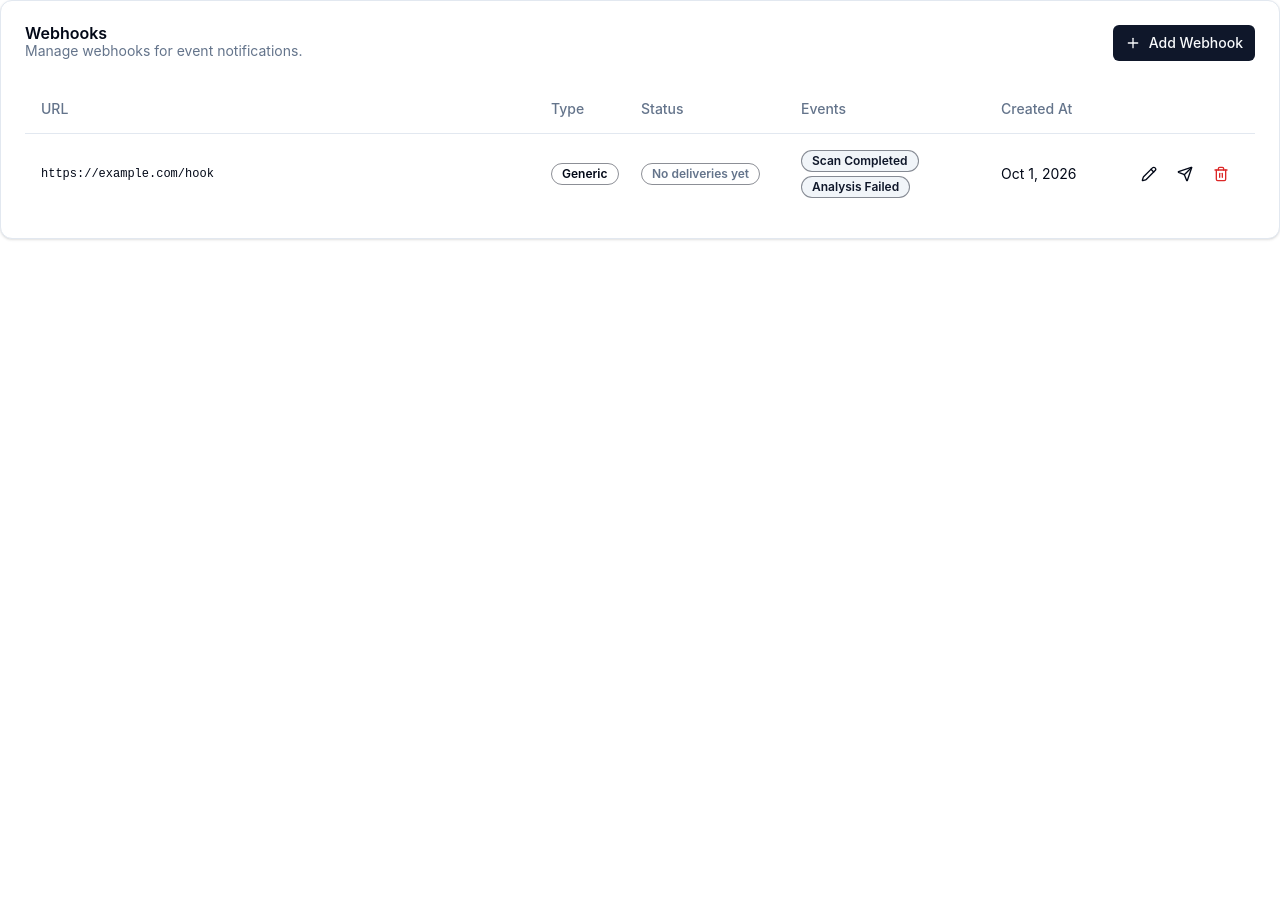
it: WebhookManager › editing a webhook › treats an event unticked and ticked again as unchanged
The image size is (1280, 900).
Click the button named "Edit webhook". click: (1149, 174)
box: left=1131, top=154, right=1167, bottom=194
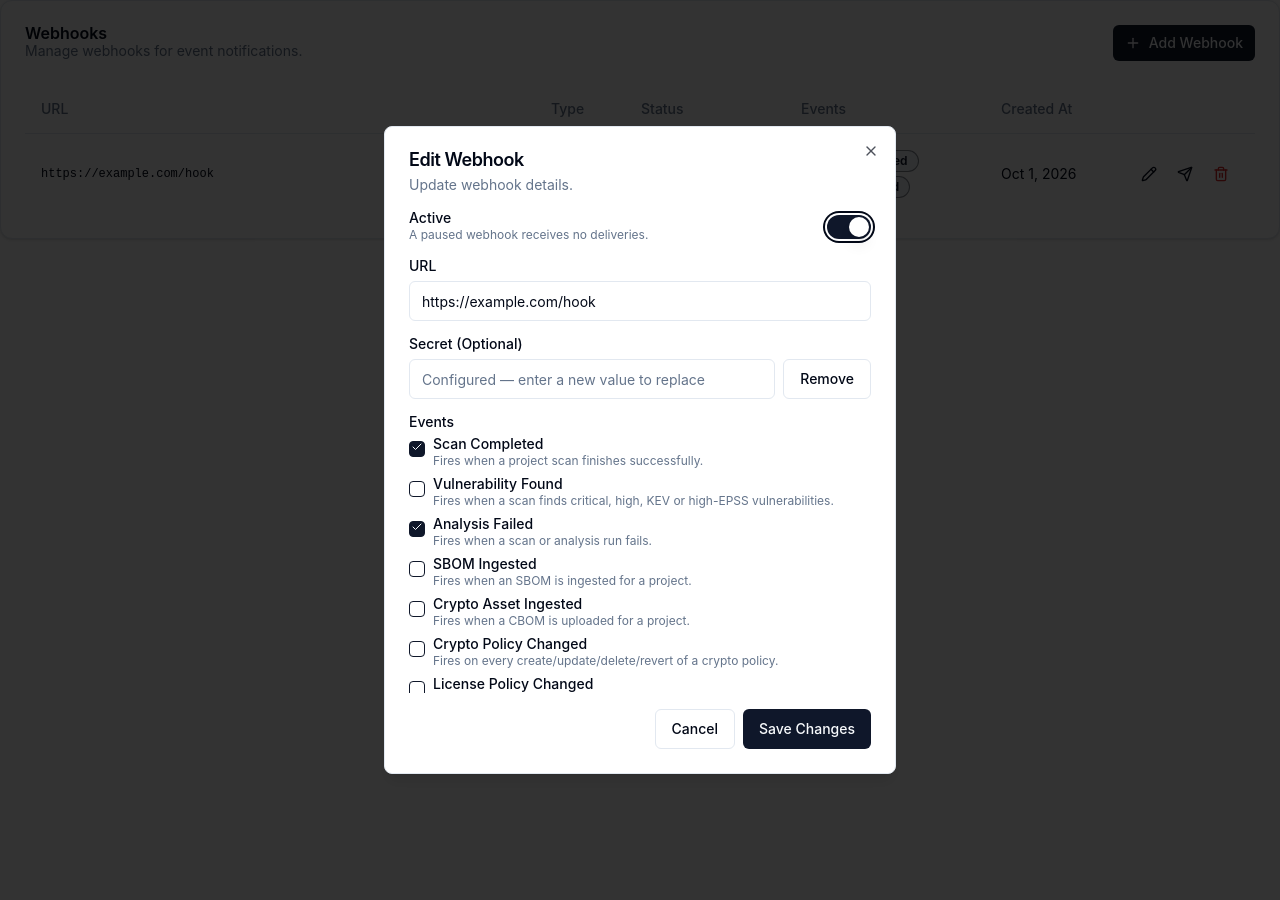
Click the checkbox labelled "Scan Completed". click: (417, 449)
box: left=409, top=441, right=425, bottom=457
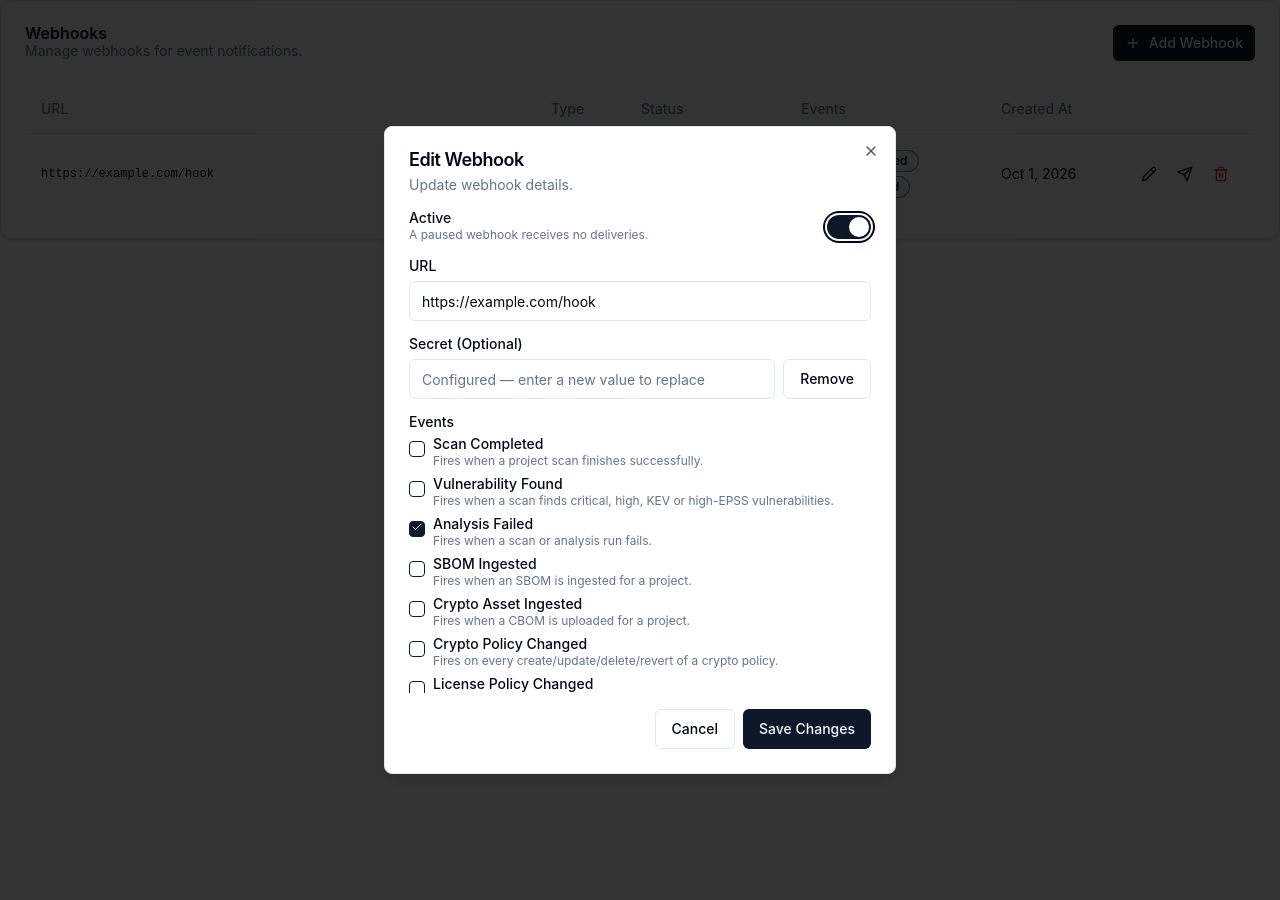
Click the checkbox labelled "Scan Completed". click: (417, 449)
box: left=409, top=441, right=425, bottom=457
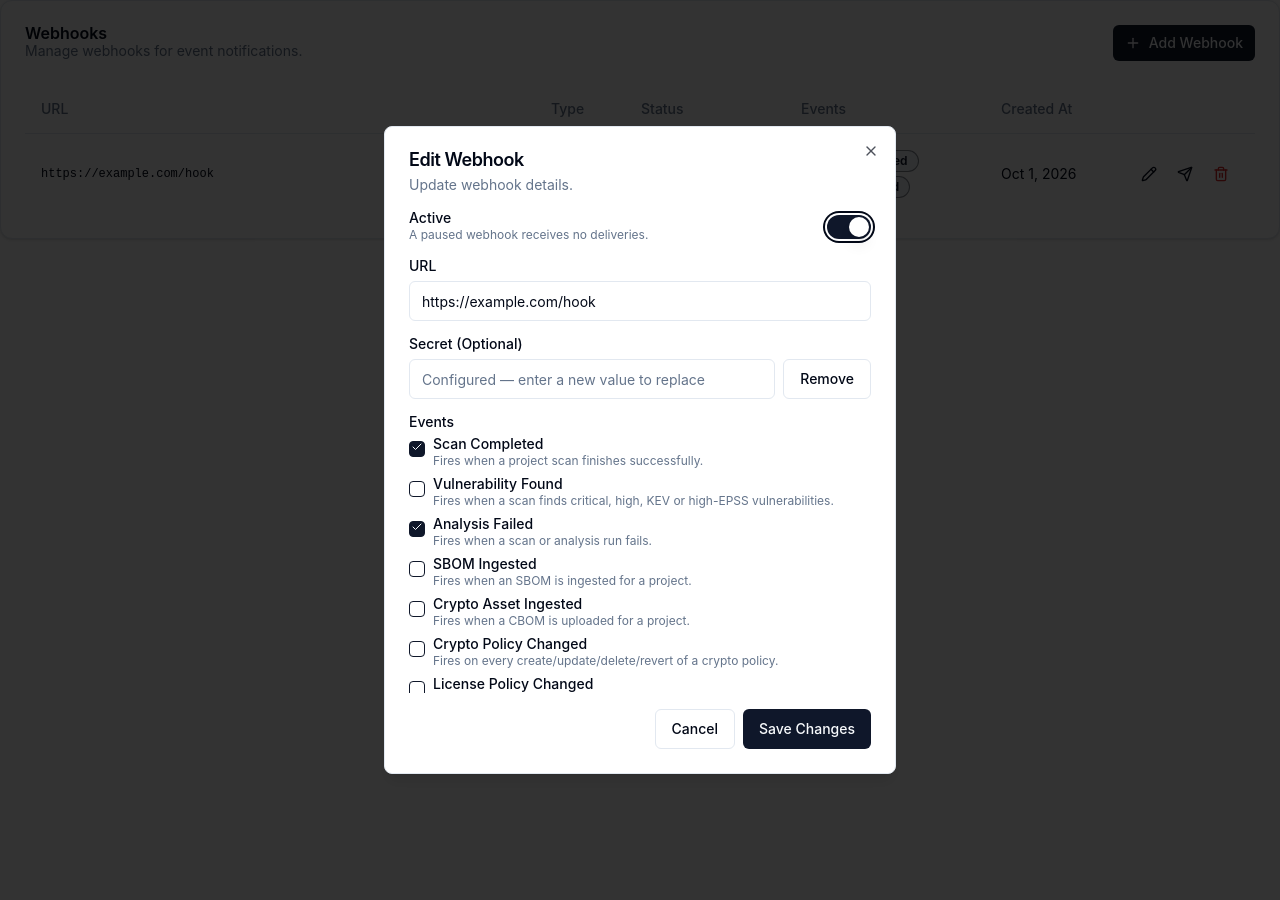
Click the button "Save Changes". click: (807, 729)
box: left=743, top=709, right=871, bottom=749
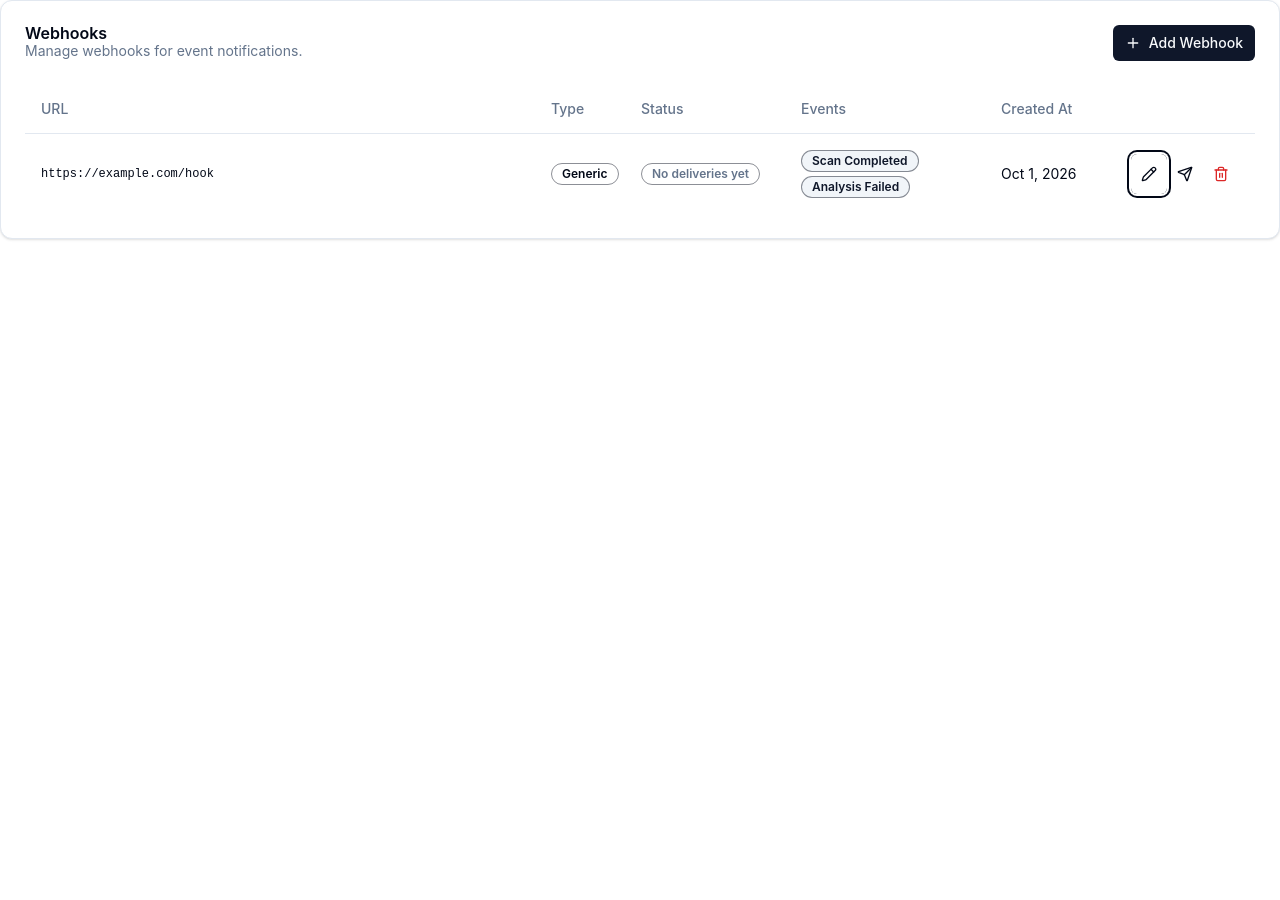
Now the dialog is gone
